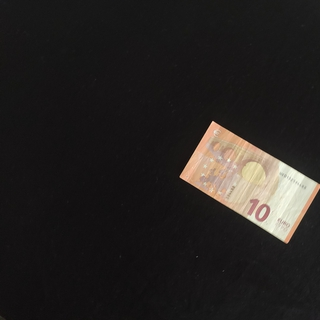10EUROBack: (178, 119, 320, 244)
